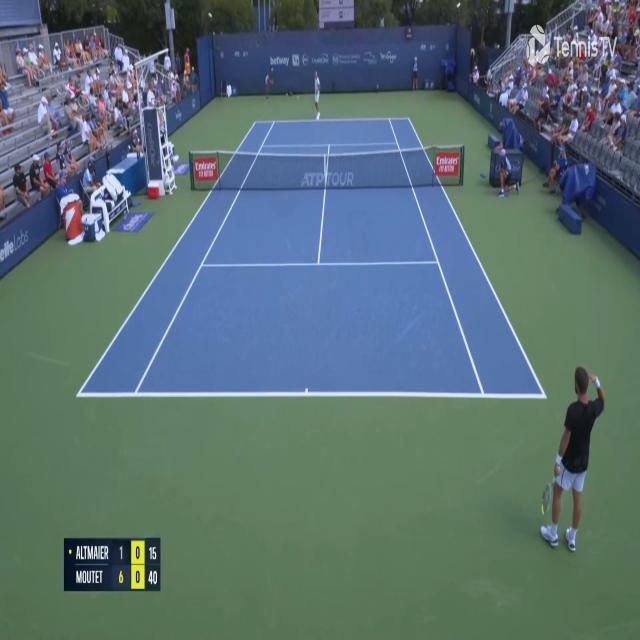tennis-player: (536, 361, 606, 558), (312, 69, 322, 122)
